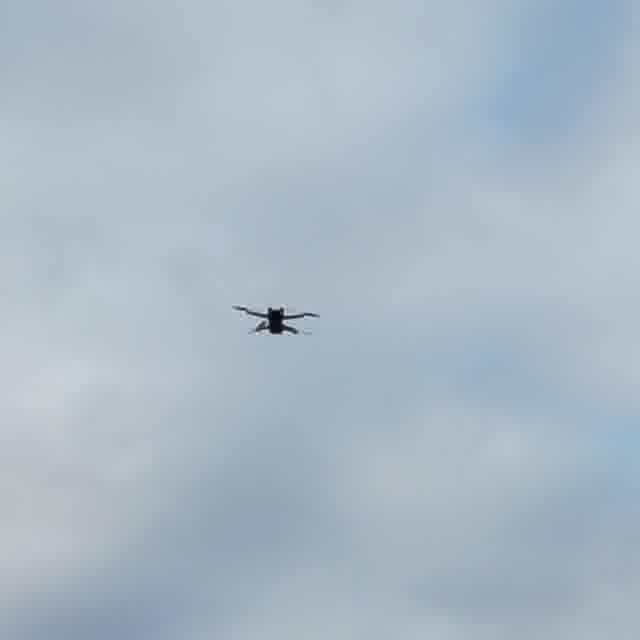Drohne: (233, 306, 319, 334)
